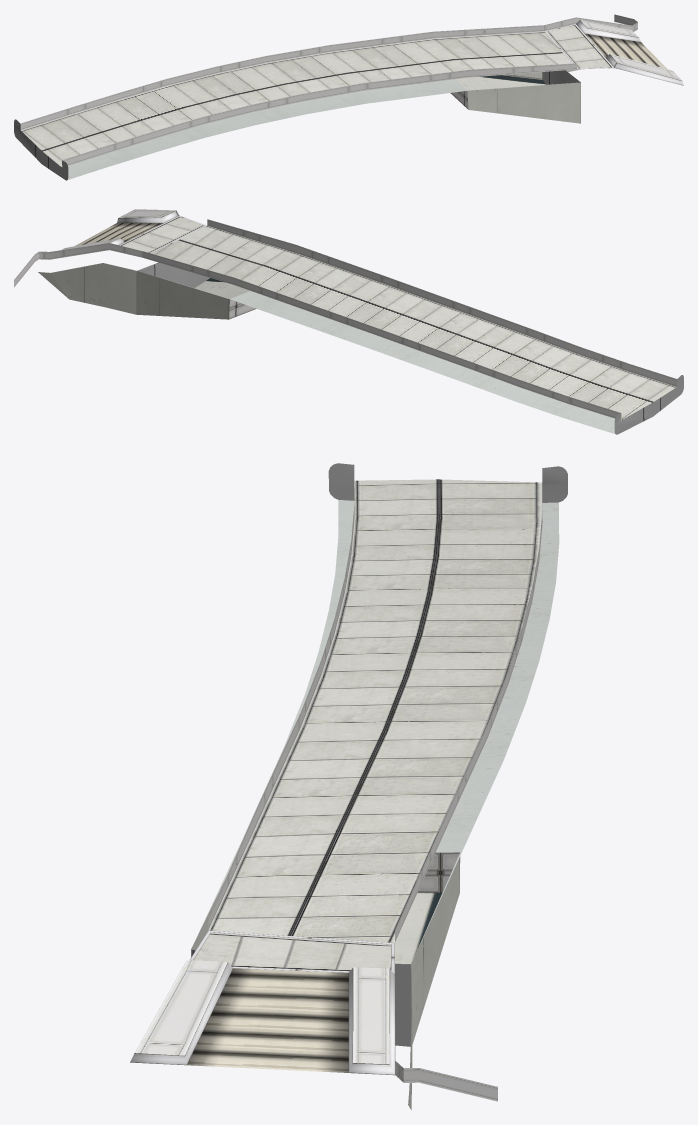
Rendered from STA20_BridgeF01.FBX.
The picture shows the model from 3 angles, top to bottom: view 1: azimuth 30°, elevation 25°; view 2: azimuth 150°, elevation 25°; view 3: azimuth 270°, elevation 25°; orthographic projection. The views are drawn at different scales.
Parts seen in each view (by area): view 1: STA20_BridgeF01; view 2: STA20_BridgeF01; view 3: STA20_BridgeF01.
Part boxes in pixels (x1,y1,x2,y2): STA20_BridgeF01: (14, 14, 683, 180); STA20_BridgeF01: (14, 209, 683, 434); STA20_BridgeF01: (130, 463, 567, 1109).
Size of the model in its own units: 39.84 by 4.41 by 12.85.
